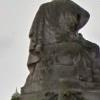Statue: (26, 2, 94, 89)
